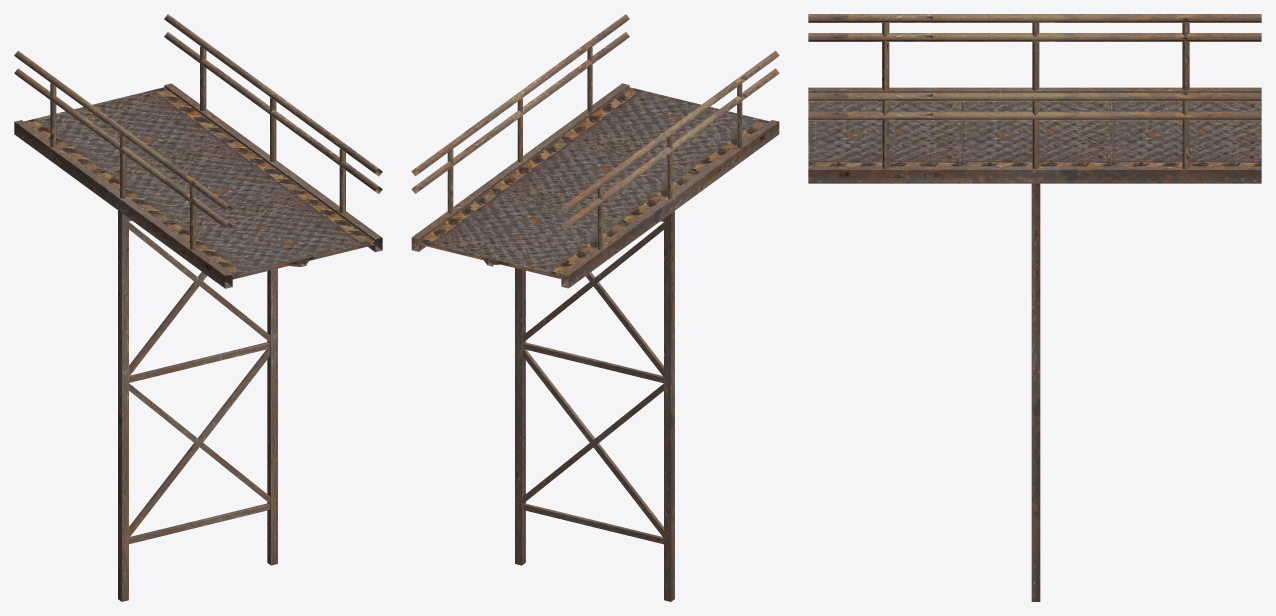
Rendered from Bridge3.fbx.
3 views of the same model, side by side, from view 1: azimuth 30°, elevation 25°; view 2: azimuth 150°, elevation 25°; view 3: azimuth 270°, elevation 25° (orthographic). The views are drawn at different scales.
Visible parts, largest first — view 1: Bridge3; view 2: Bridge3; view 3: Bridge3.
Boxes of the visible parts, box(x1,y1,x2,y2) form: Bridge3: box(14, 14, 382, 601); Bridge3: box(411, 14, 779, 601); Bridge3: box(808, 14, 1261, 601).
Size of the model in its own units: 210 by 600 by 485.
